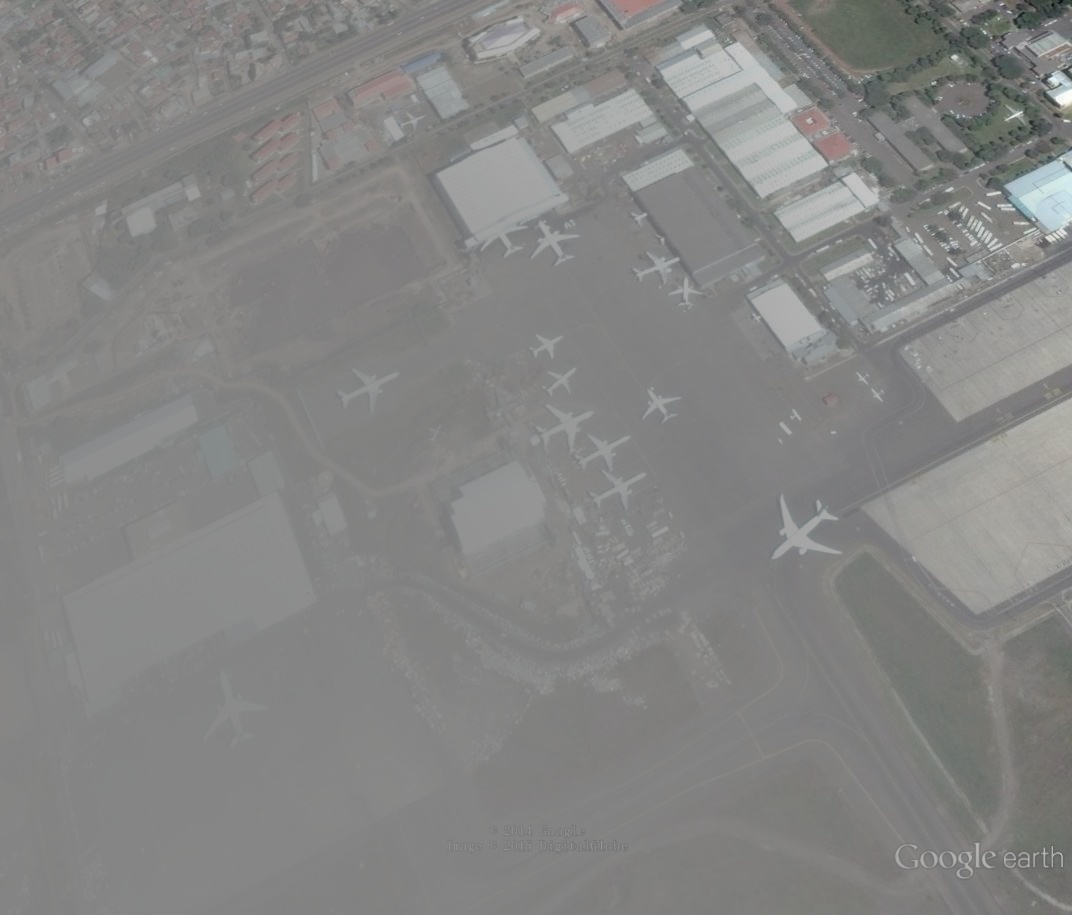aircraft: (202, 664, 274, 756), (768, 492, 848, 566), (530, 401, 598, 458), (332, 364, 404, 415), (585, 469, 654, 514), (526, 219, 585, 271), (571, 431, 634, 476), (479, 222, 532, 259), (641, 386, 685, 429), (631, 250, 684, 284), (663, 275, 707, 310), (539, 366, 579, 401), (529, 333, 567, 365), (397, 111, 430, 136), (626, 208, 654, 231), (424, 423, 449, 444), (867, 383, 890, 405), (854, 369, 872, 389), (787, 407, 808, 424)
